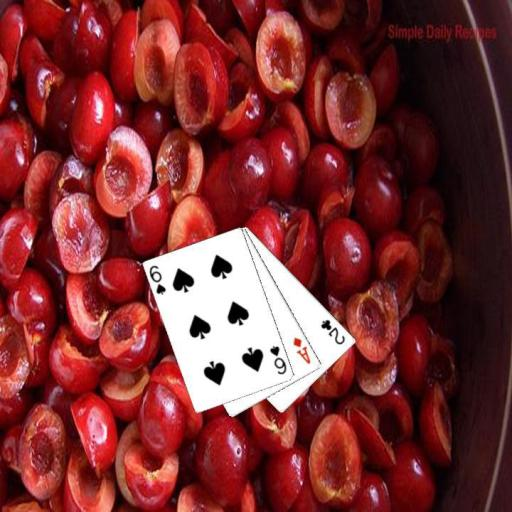2C: (318, 317, 347, 347)
6S: (146, 262, 168, 296), (267, 343, 288, 376)
AD: (290, 334, 312, 366)
